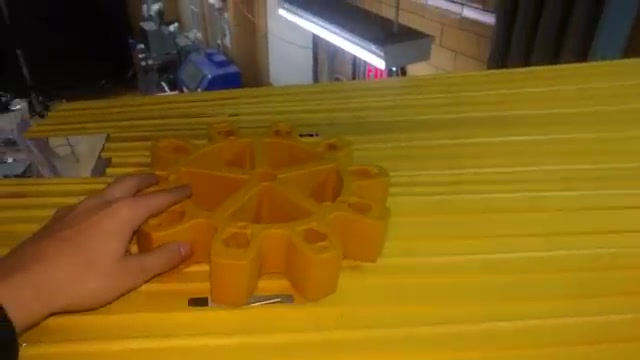gear: (104, 112, 408, 312)
